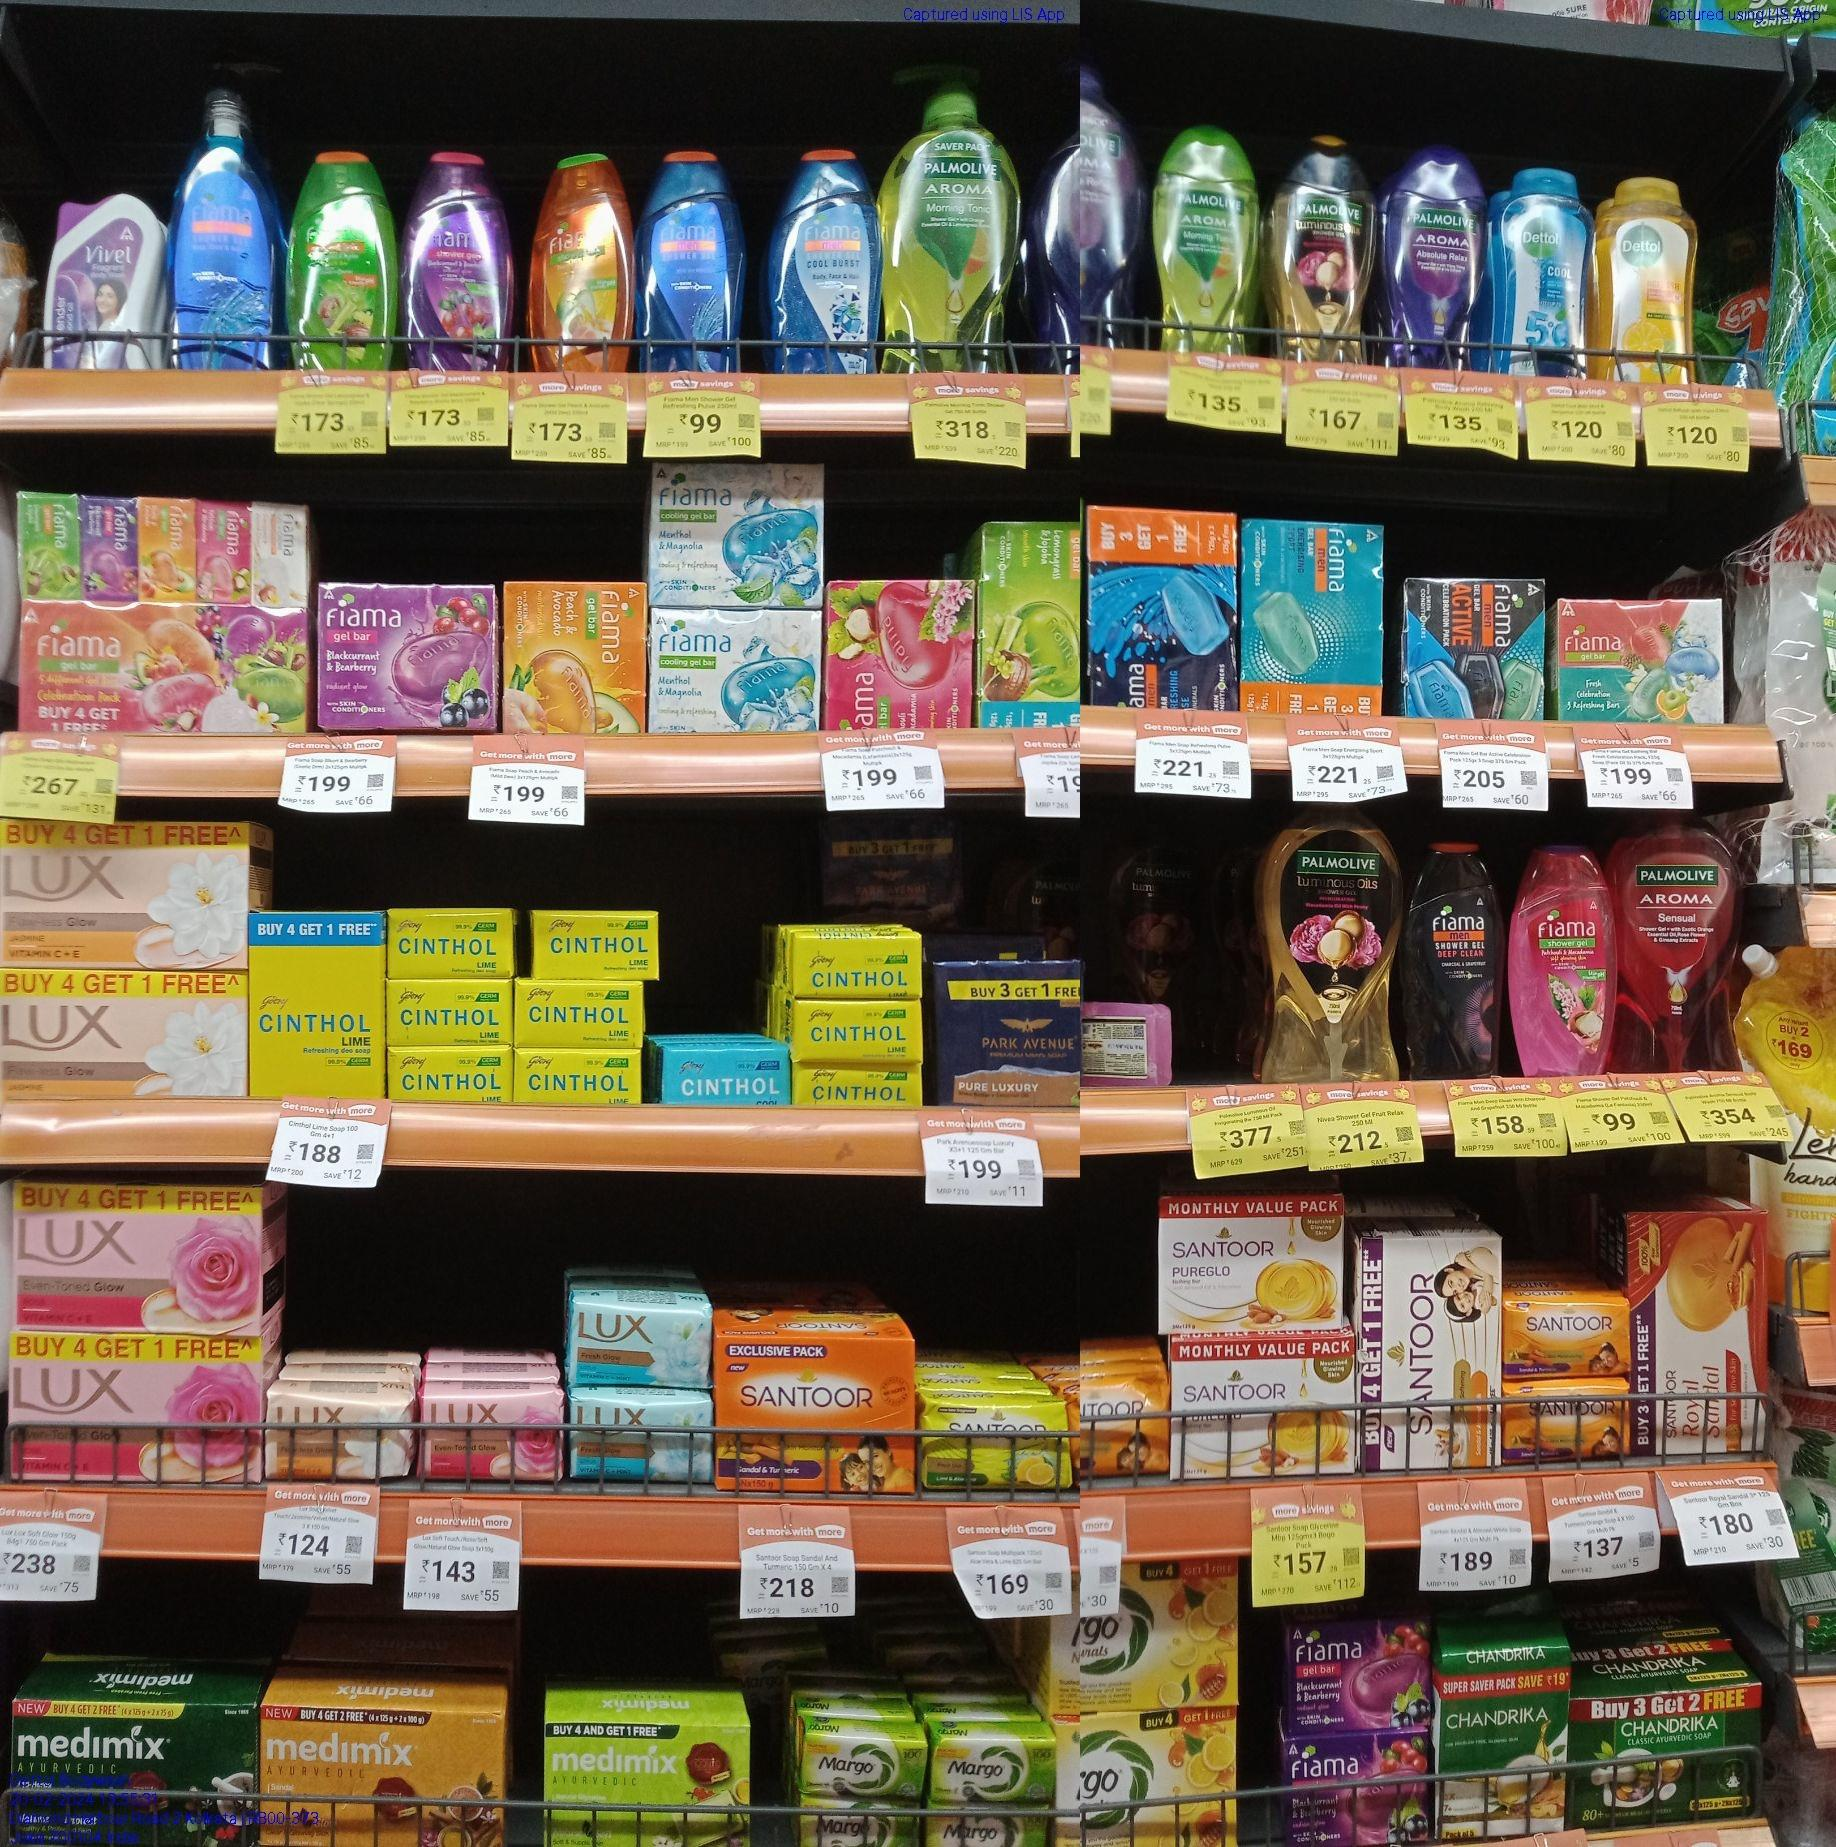Dettol_Bodywash_Cool: (1495, 163, 1592, 376)
Dettol_Bodywash_Refresh: (1599, 166, 1700, 382)
Fiama_Shower_Gel_Lemongrass_and_Jojoba_250ML: (291, 145, 395, 370)
Fiama_Shower_Gel_Patchouli_and_Macadamia_250ML: (1508, 842, 1614, 1074)
Fiama_Shower_Gel_Peach_and_Avocado_250ML: (528, 150, 636, 371)
Palmolive_Aroma_Morning_Tonic_Shower_Gel_250ML: (1153, 121, 1261, 353)
Palmolive_Aroma_Relax_250ML: (1387, 141, 1486, 370)
Palmolive_Luminous_Oils_Invigorating_Macadamia_Oil_With_Peony_250ML: (1268, 134, 1375, 361)
